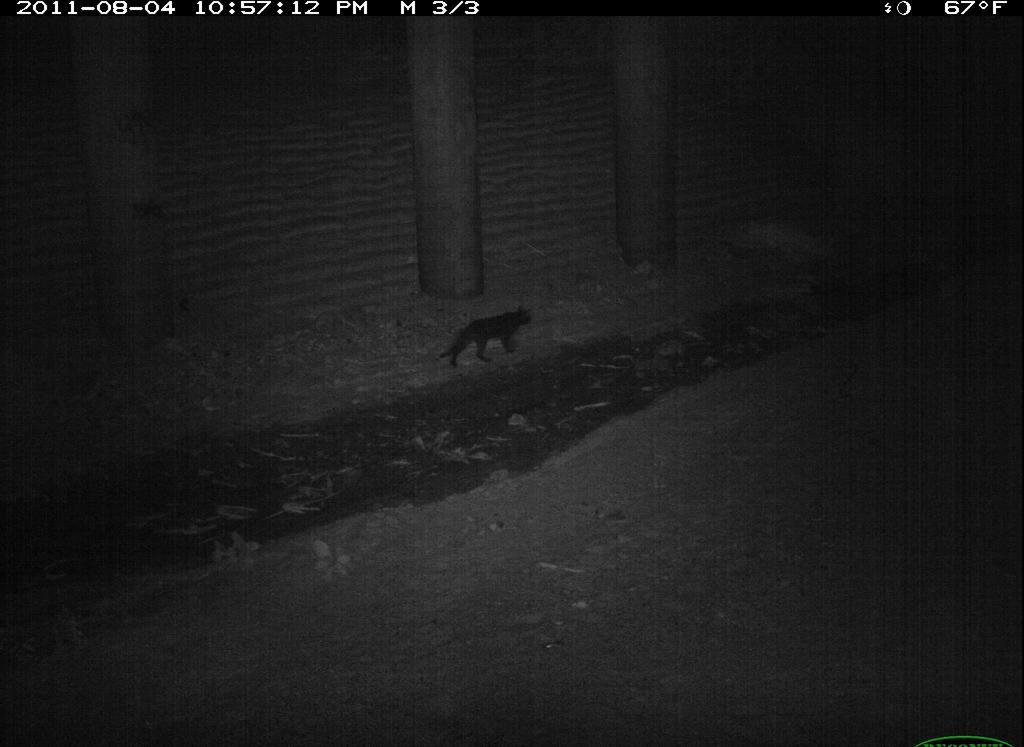cat: (869, 598, 1024, 747)
